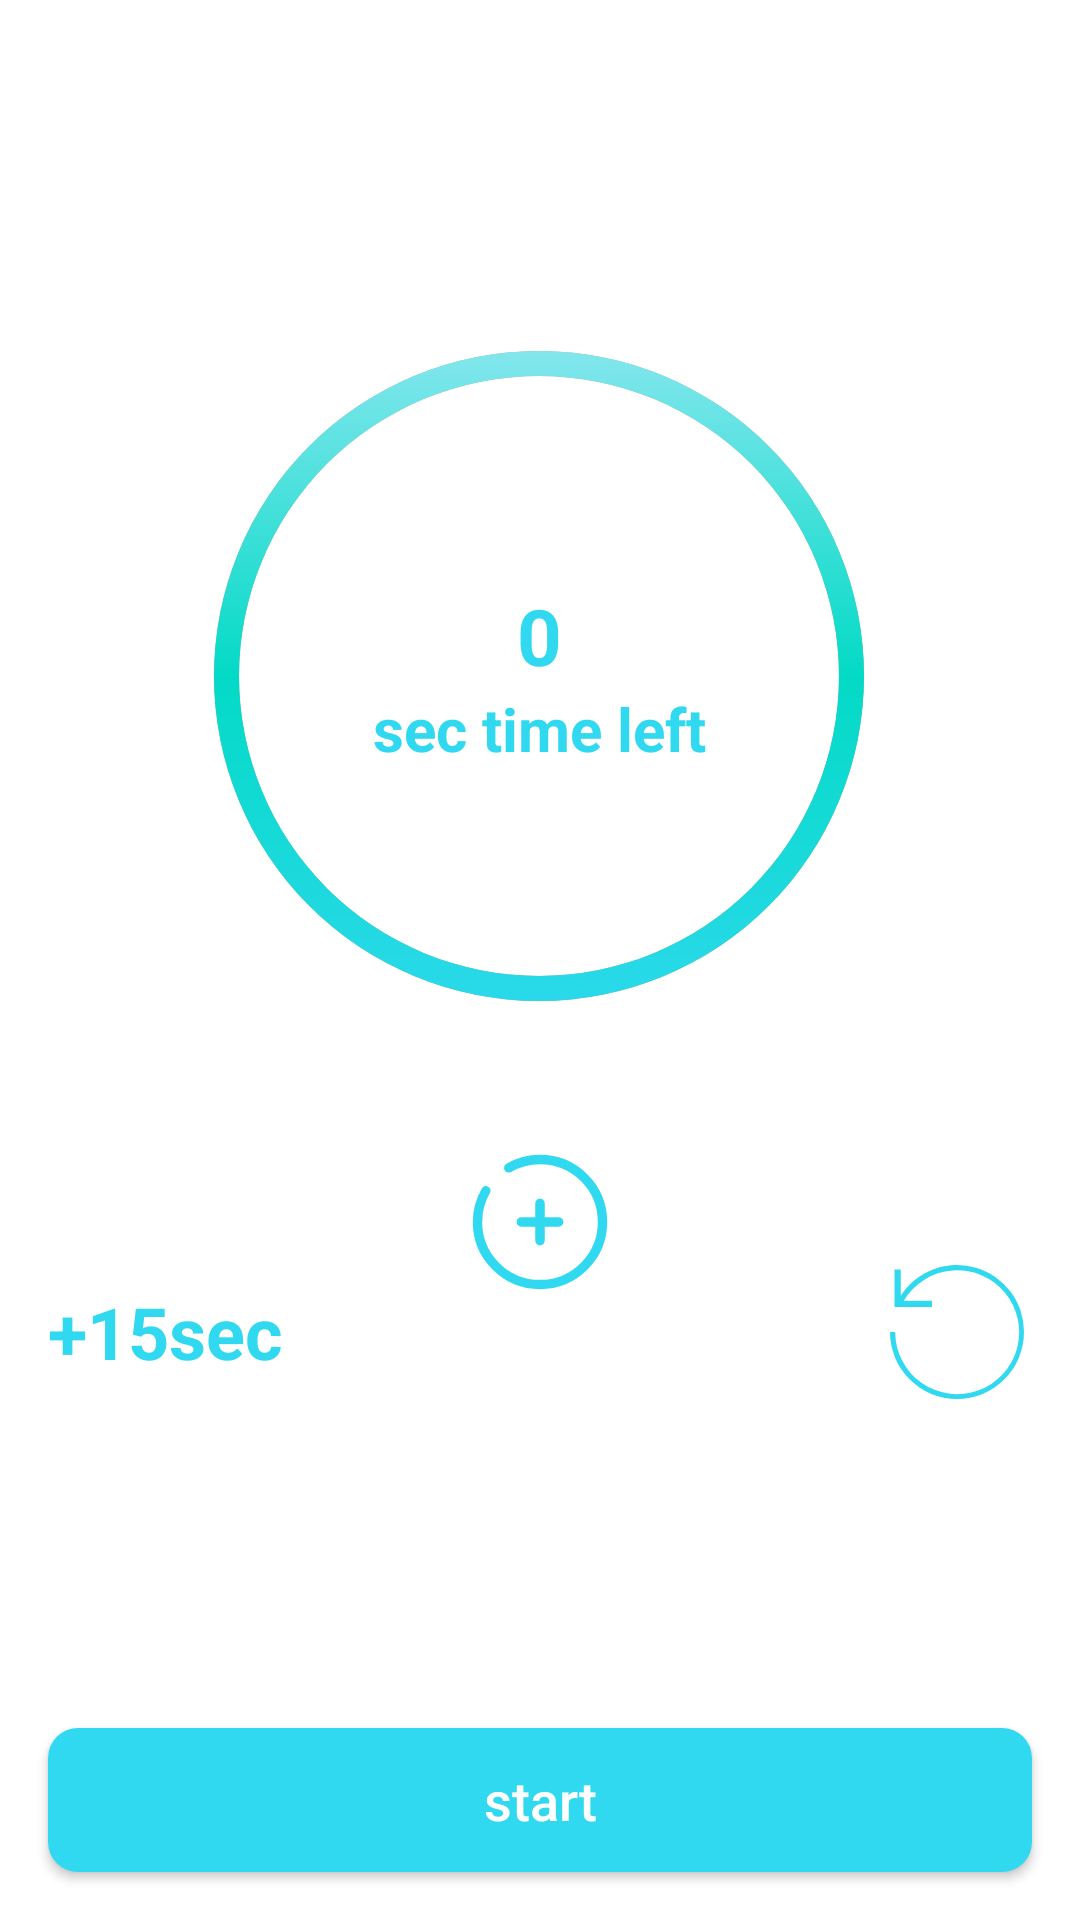

Point at icon controls on the screen. Image size 1080x1920, points as point (x, y).
add: point (540, 1222)
reset: point (957, 1332)
